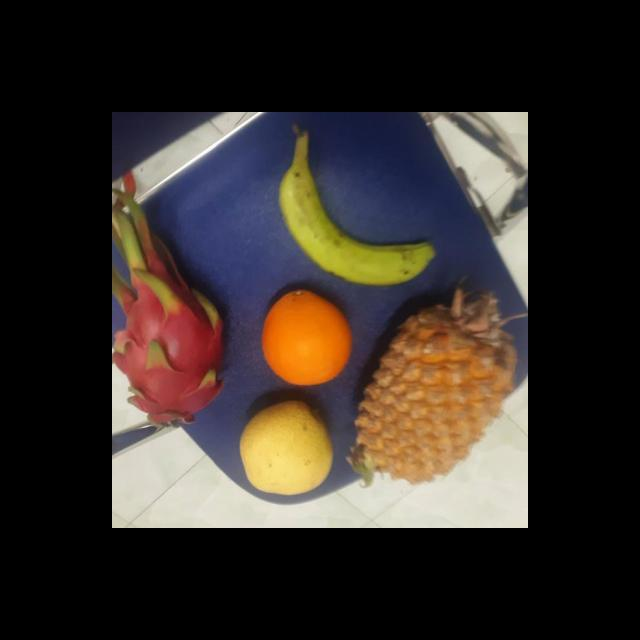banana: (278, 156, 428, 286)
orange: (259, 288, 352, 388)
pear: (236, 402, 334, 498)
pineapple: (354, 306, 524, 479)
pitaya: (112, 273, 224, 423)
